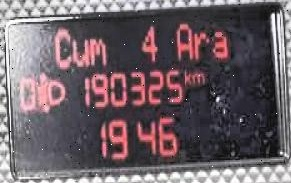0: (107, 70, 127, 108), (17, 73, 36, 112)
1: (94, 118, 107, 158), (78, 70, 91, 108)
2: (146, 66, 163, 105)
3: (126, 67, 146, 107)
4: (137, 20, 157, 63), (135, 115, 156, 155)
5: (163, 65, 181, 103)
6: (156, 112, 178, 158)
9: (107, 115, 130, 160), (90, 70, 107, 108)
X: (51, 25, 71, 70), (173, 20, 192, 61), (87, 33, 107, 67), (210, 26, 229, 60), (192, 26, 209, 60), (71, 35, 87, 66), (190, 68, 204, 85), (182, 65, 189, 85)
